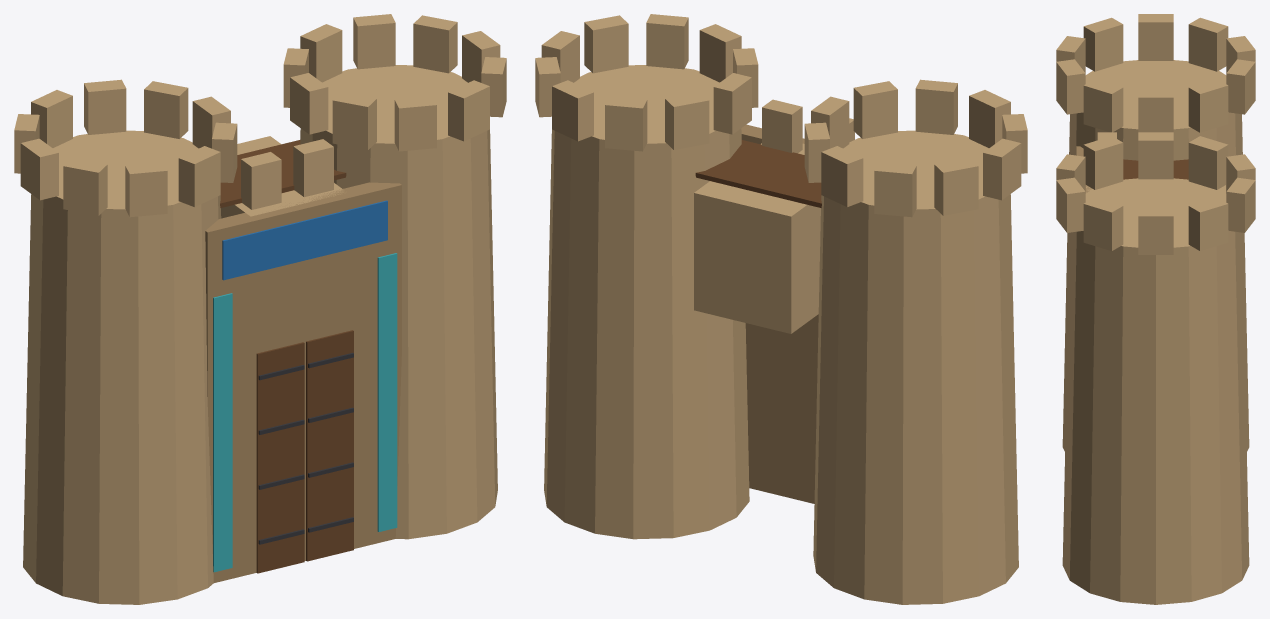
File: gate.glb
The picture shows the model from 3 angles, left to right: view 1: azimuth 30°, elevation 25°; view 2: azimuth 150°, elevation 25°; view 3: azimuth 270°, elevation 25°; orthographic projection. The views are drawn at different scales.
Parts seen in each view (by area): view 1: Gate; view 2: Gate; view 3: Gate.
Boxes of the visible parts, bbox=[...] form: Gate: bbox=[14, 14, 506, 604]; Gate: bbox=[535, 14, 1027, 604]; Gate: bbox=[1056, 14, 1255, 604].
Size of the model in its own units: 12.3 by 11.1 by 5.13.
